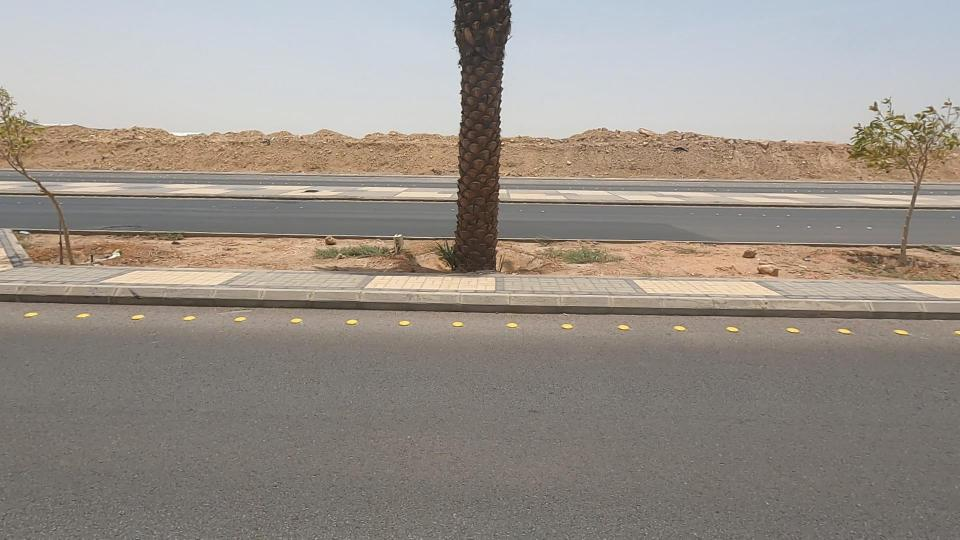CLUTTER_SIDEWALK: (0, 184, 524, 321), (457, 197, 949, 318)
GARBAGE: (46, 222, 177, 298)
